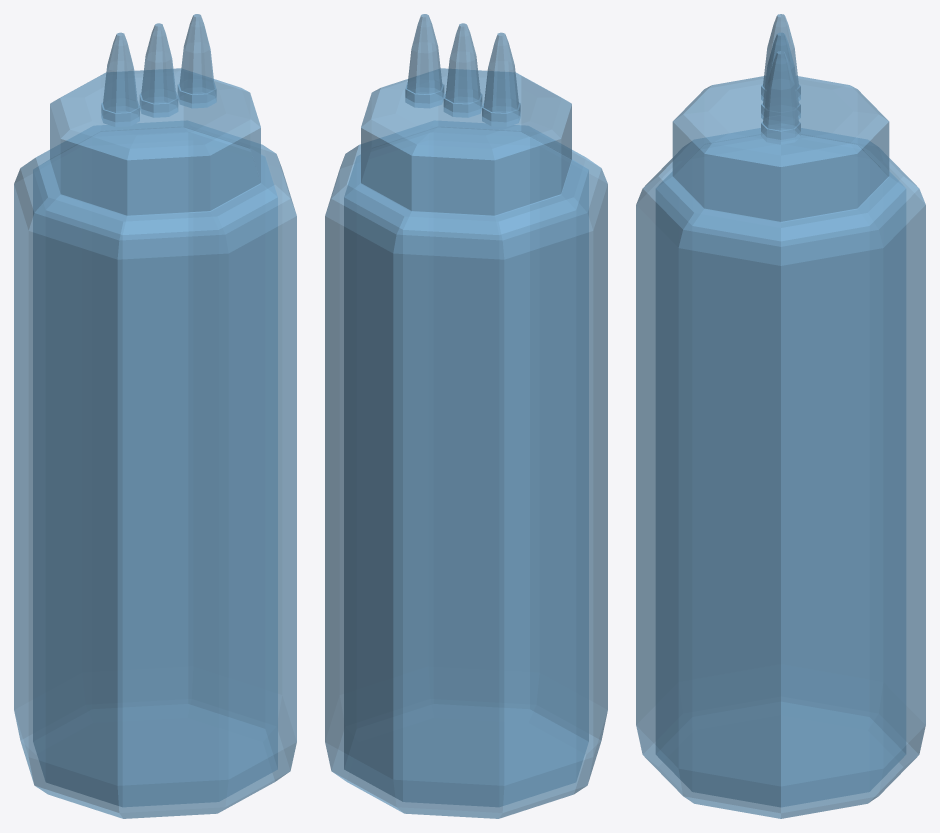
File: salsera.fbx
The picture shows the model from 3 angles, left to right: view 1: azimuth 30°, elevation 25°; view 2: azimuth 150°, elevation 25°; view 3: azimuth 270°, elevation 25°; orthographic projection.
Parts seen in each view (by area): view 1: salsera, tapa boquillas, boquillas; view 2: salsera, tapa boquillas, boquillas; view 3: salsera, tapa boquillas, boquillas.
Boxes of the visible parts, bbox=[...] form: salsera: bbox=[14, 121, 296, 818]; tapa boquillas: bbox=[50, 68, 260, 215]; boquillas: bbox=[101, 14, 216, 126]; salsera: bbox=[325, 121, 607, 818]; tapa boquillas: bbox=[361, 68, 571, 215]; boquillas: bbox=[405, 14, 520, 126]; salsera: bbox=[636, 128, 925, 818]; tapa boquillas: bbox=[672, 76, 889, 221]; boquillas: bbox=[761, 14, 800, 144].
Bounding box in the file's own units: 8 × 22.38 × 8.
